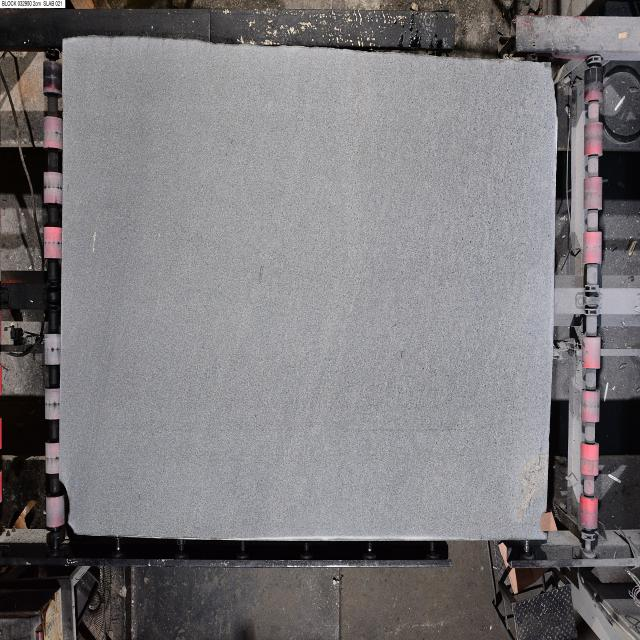chapa: (60, 38, 556, 540)
